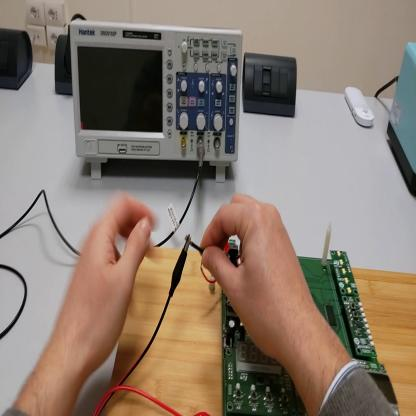hand: (199, 194, 314, 363), (56, 192, 155, 380)
low voltage board: (187, 223, 400, 415)
oscilloscope: (71, 24, 244, 183)
socket: (1, 28, 33, 94), (55, 35, 74, 95)
welder station: (387, 43, 415, 196)
working area: (107, 244, 416, 415)
